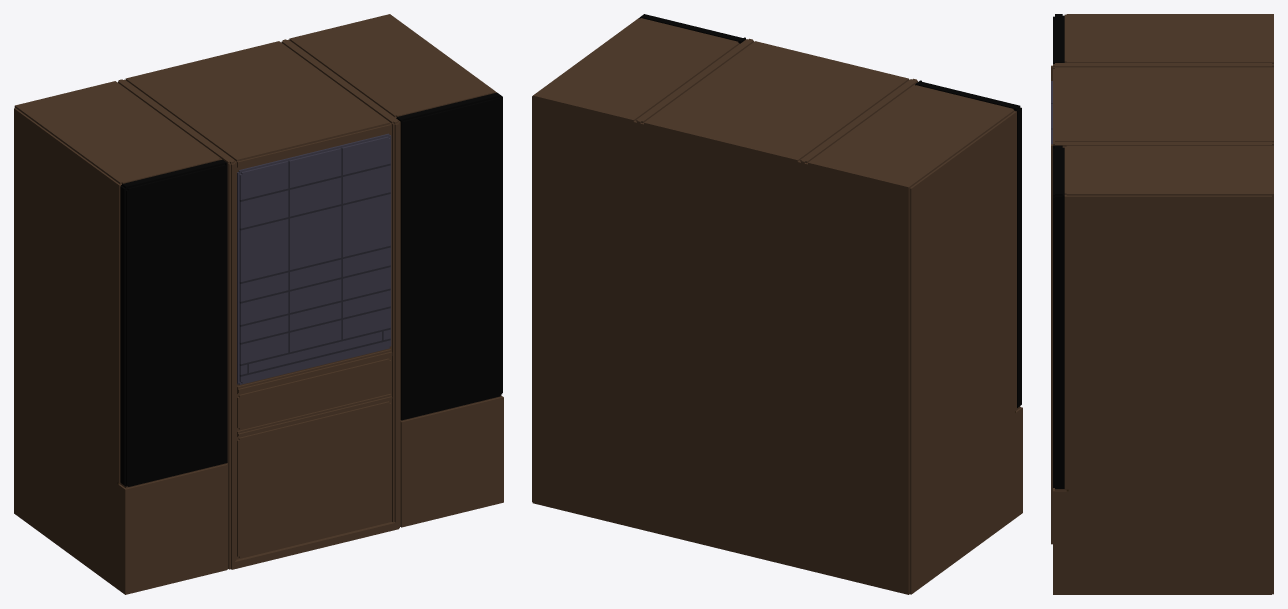
Rendered from bedroom-desk-view-television-2-stereo rack.obj.
3 views of the same model, side by side, from view 1: azimuth 30°, elevation 25°; view 2: azimuth 150°, elevation 25°; view 3: azimuth 270°, elevation 25° (orthographic).
Parts seen in each view (by area): view 1: stereo rack; view 2: stereo rack; view 3: stereo rack.
Part boxes in pixels (box(x1,y1,x2,y2)): stereo rack: box(14, 14, 503, 594); stereo rack: box(532, 14, 1022, 594); stereo rack: box(1051, 14, 1273, 594).
Bounding box in the file's own units: 22.2 × 22.8 × 11.5.
Materials: 1 (1 with a texture image).
